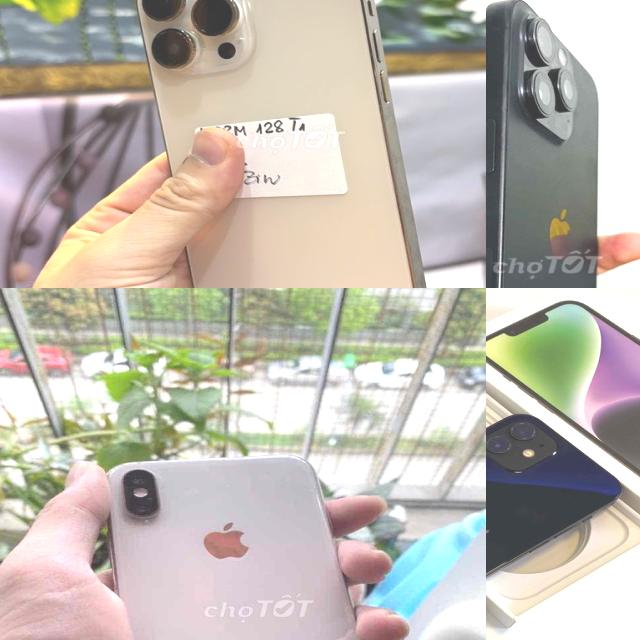scratch: (137, 519, 161, 533)
